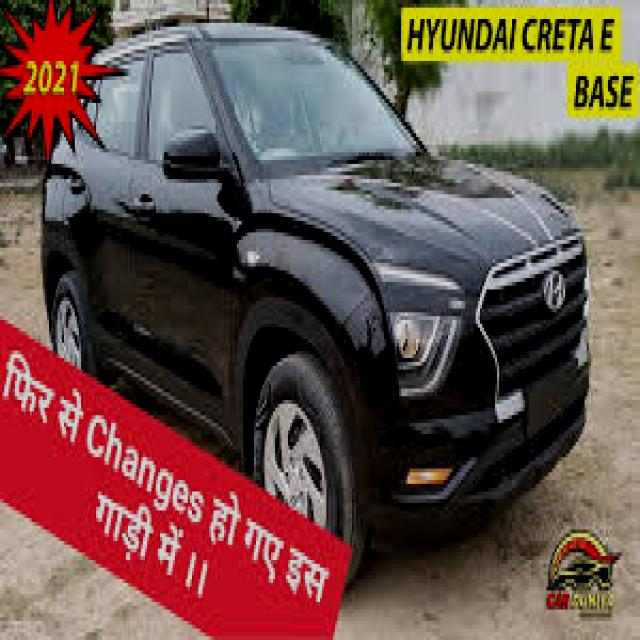SUV: (41, 15, 587, 616)
